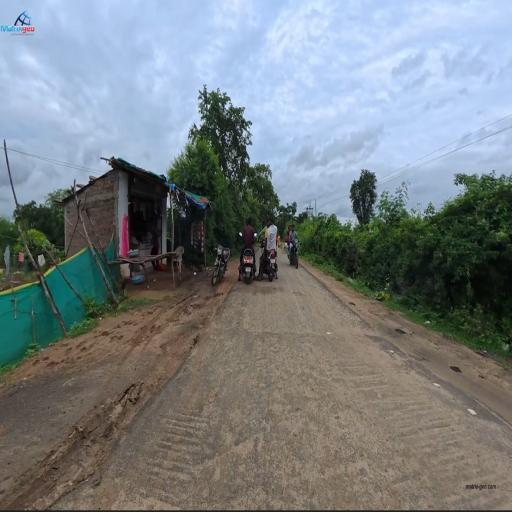ravelling: (176, 392, 437, 502)
